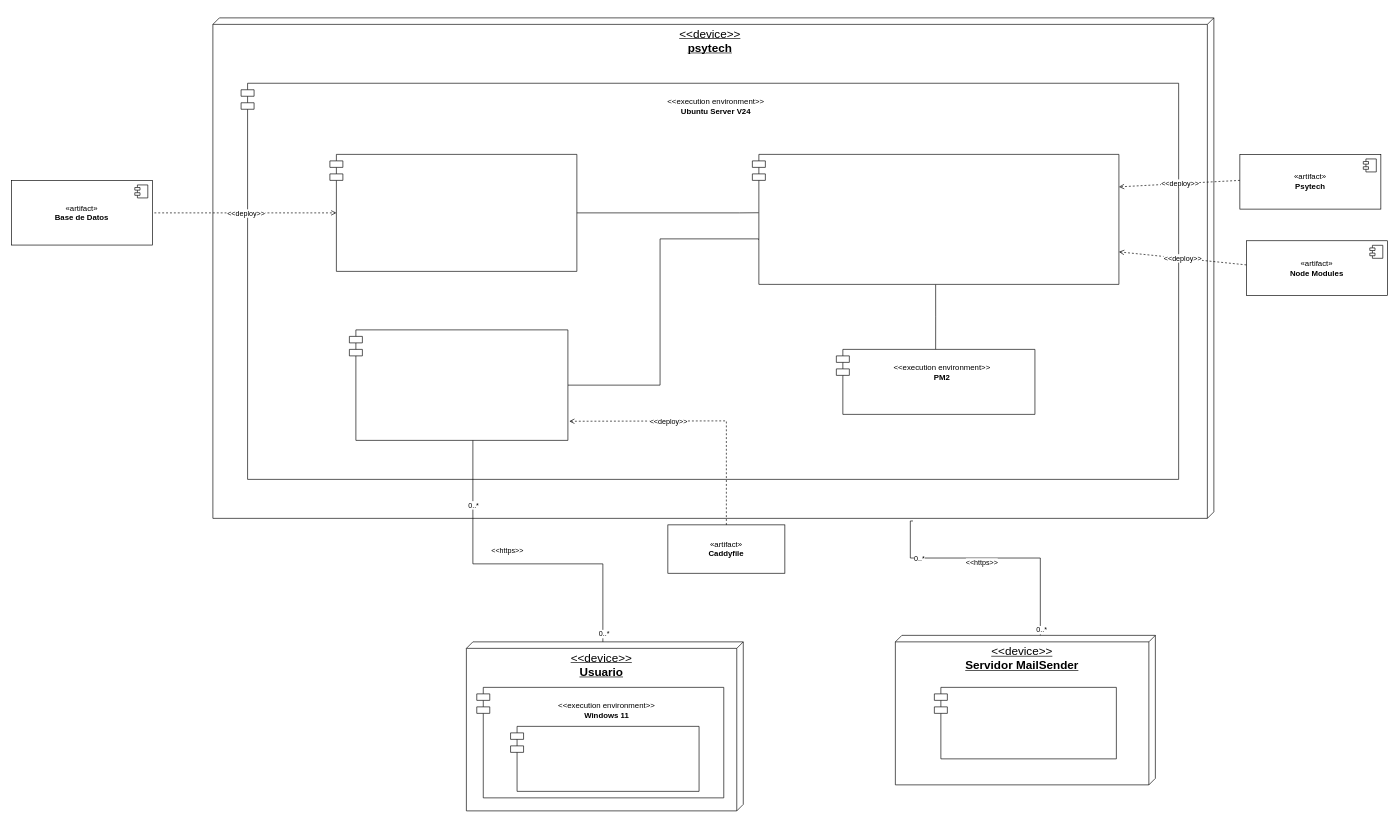
This 1399x828 diagram has some shape labels left out. Each missing label, with the centre of its shape:
<<execution environment>> API mailsersend: [1025,723]
<<execution environment>> Caddy: [458,384]
<<execution environment>> Chrome: [604,758]
<<execution environment>> MySQL Server: [453,212]
<<execution environment>> NodeJS: [935,219]
